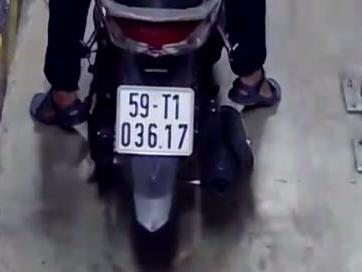num_plate: (115, 85, 195, 158)
